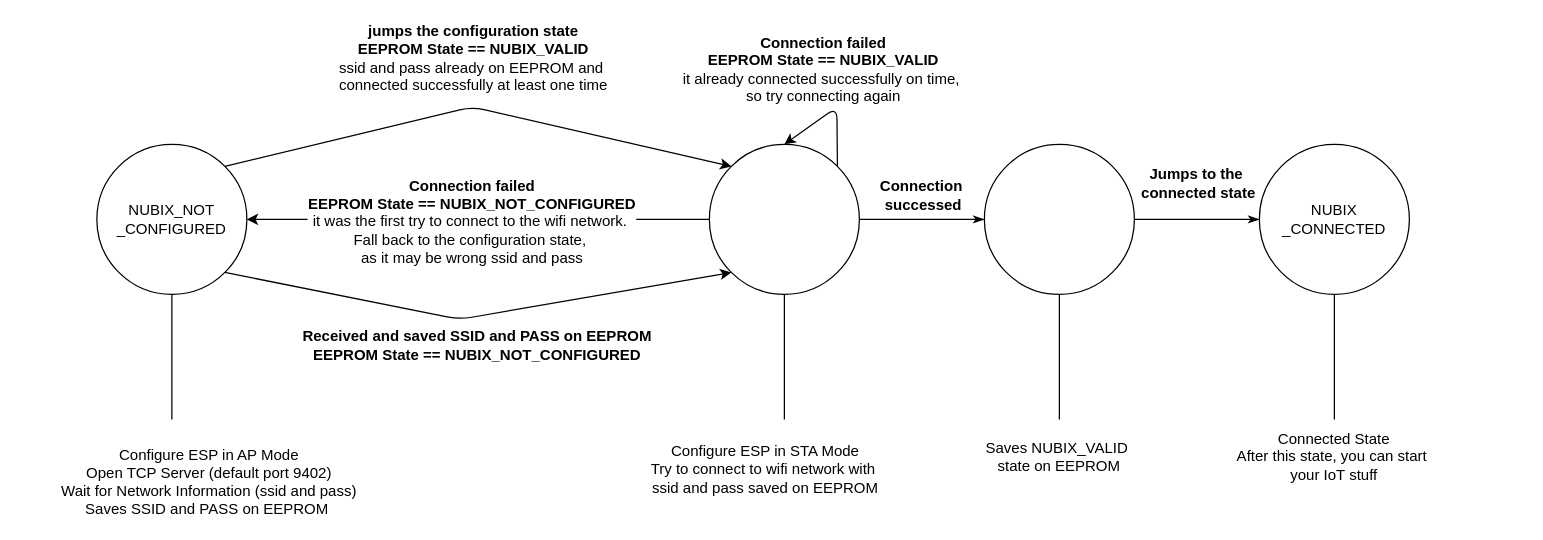
Image size: 1543x540. Some labels were removed from this diagram. Here are the shapes that lost their labels. From the top down, the box of each, then its label:
(708, 143, 859, 294): NUBIX _CONNECTING
(983, 143, 1134, 294): NUBIX _VALID
